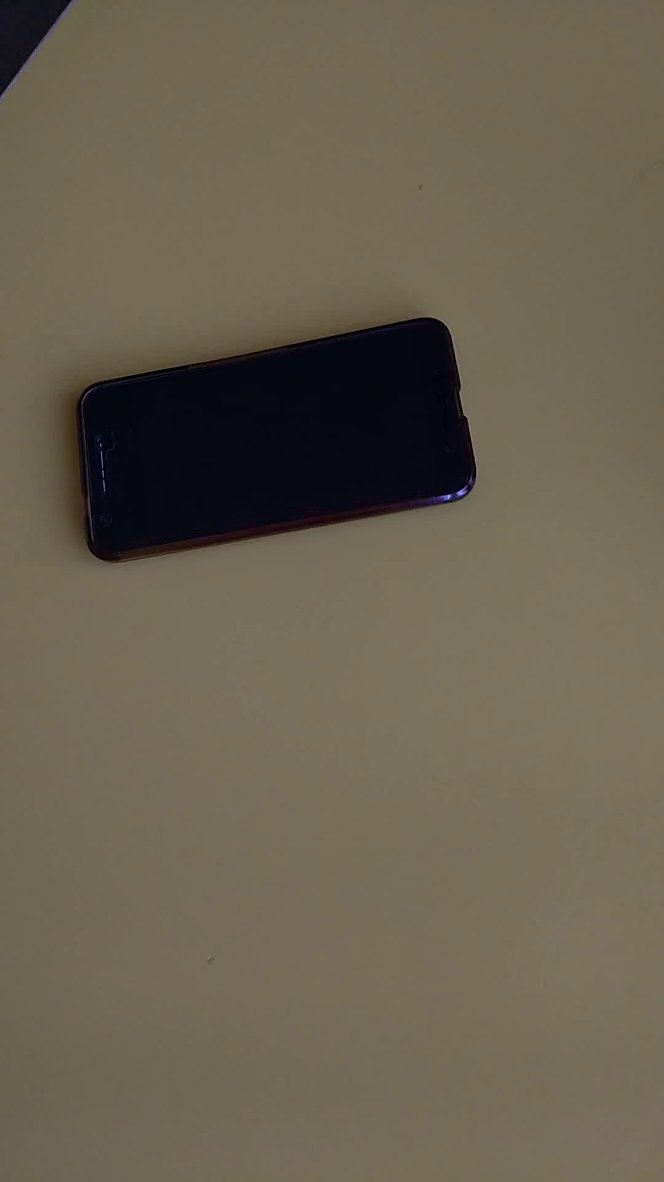phone: (68, 307, 484, 569)
